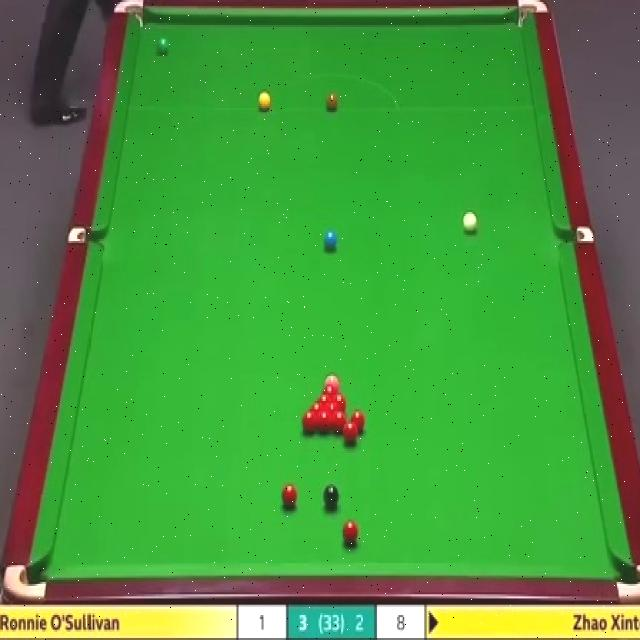black-ball: (323, 484, 340, 511)
blue-ball: (323, 230, 338, 250)
brown-ball: (325, 93, 338, 112)
green-ball: (157, 37, 169, 56)
pink-ball: (324, 372, 341, 386)
red-ball: (280, 483, 298, 509), (344, 519, 359, 546), (300, 410, 316, 433), (316, 409, 331, 432), (332, 411, 347, 434), (350, 410, 364, 434), (343, 423, 357, 445), (332, 392, 347, 410), (320, 382, 338, 392), (309, 402, 324, 412), (324, 402, 340, 411), (316, 393, 332, 402)
white-ball: (462, 210, 478, 238)
yellow-ball: (257, 90, 271, 110)
